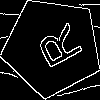R: (27, 22, 85, 75)
